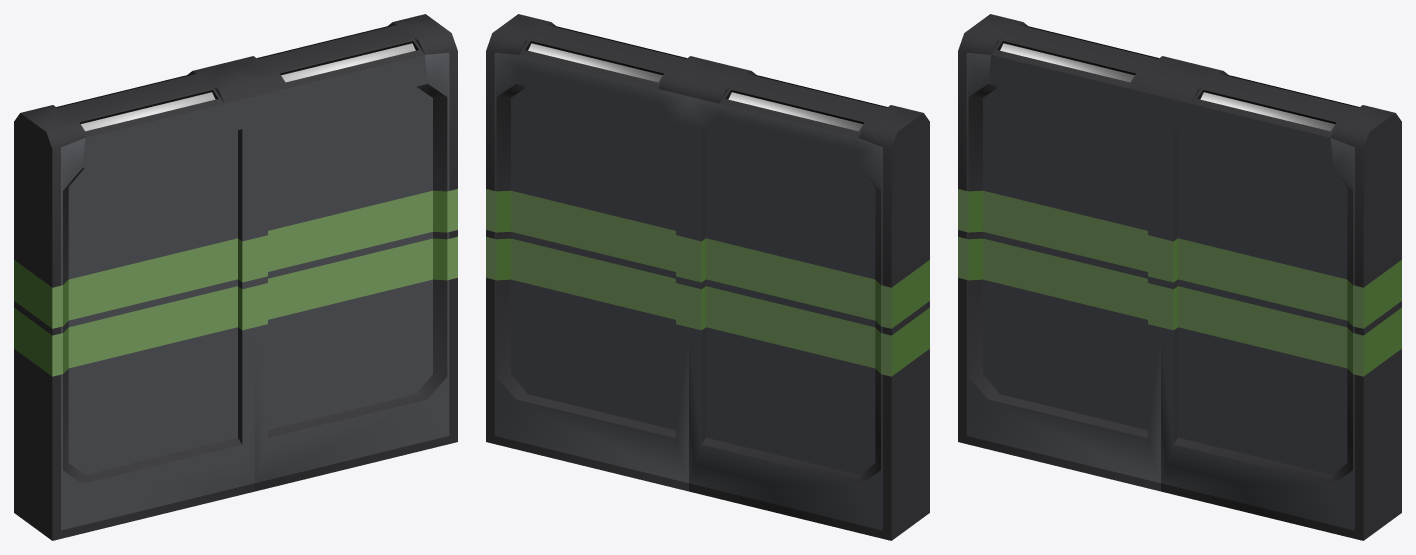
The model's file is doubleairlock.fbx.
3 views of the same model, side by side, from view 1: azimuth 30°, elevation 25°; view 2: azimuth 150°, elevation 25°; view 3: azimuth 330°, elevation 25° (orthographic).
Visible parts, largest first — view 1: AirlockStandardLeft.002, AirlockStandardLeft; view 2: AirlockStandardLeft.002, AirlockStandardLeft; view 3: AirlockStandardLeft, AirlockStandardLeft.002.
Boxes of the visible parts, x1,y1,x2,y2 form: AirlockStandardLeft.002: [14, 63, 254, 540]; AirlockStandardLeft: [223, 14, 457, 491]; AirlockStandardLeft.002: [689, 63, 929, 540]; AirlockStandardLeft: [486, 14, 720, 491]; AirlockStandardLeft: [1161, 63, 1401, 540]; AirlockStandardLeft.002: [958, 14, 1192, 491].
Size of the model in its own units: 196 by 187 by 32.08.
